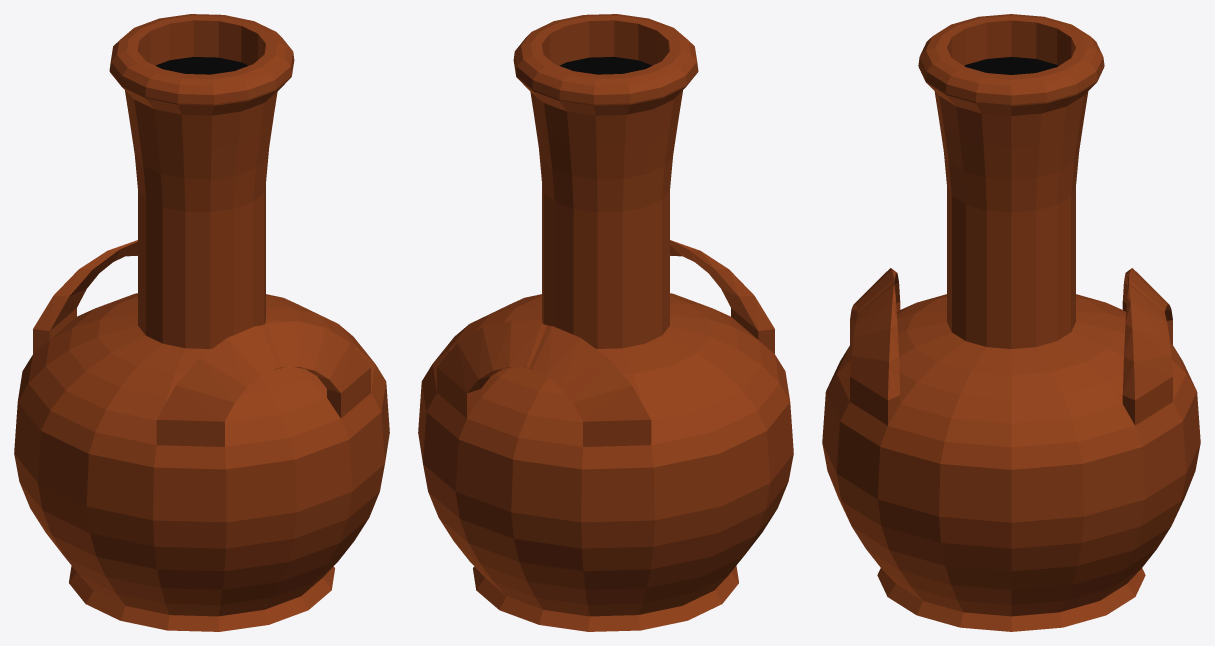
The model's file is Tall Amphora.fbx.
3 renders of one model, left to right at view 1: azimuth 30°, elevation 25°; view 2: azimuth 150°, elevation 25°; view 3: azimuth 270°, elevation 25°, orthographic.
Parts seen in each view (by area): view 1: Tall Amphora; view 2: Tall Amphora; view 3: Tall Amphora.
Part boxes in pixels (<box>): Tall Amphora: <box>14,14,389,631</box>; Tall Amphora: <box>418,14,793,631</box>; Tall Amphora: <box>822,14,1200,631</box>.
Size of the model in its own units: 56.64 by 87.1 by 56.64.
